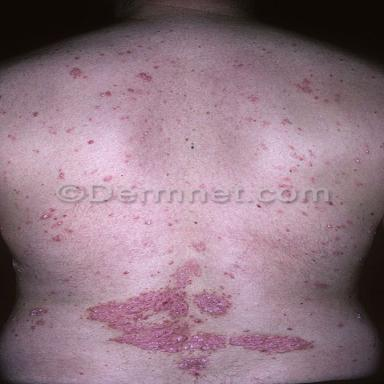Psoriasis: (89, 261, 311, 354), (177, 355, 210, 376), (29, 307, 46, 316)
